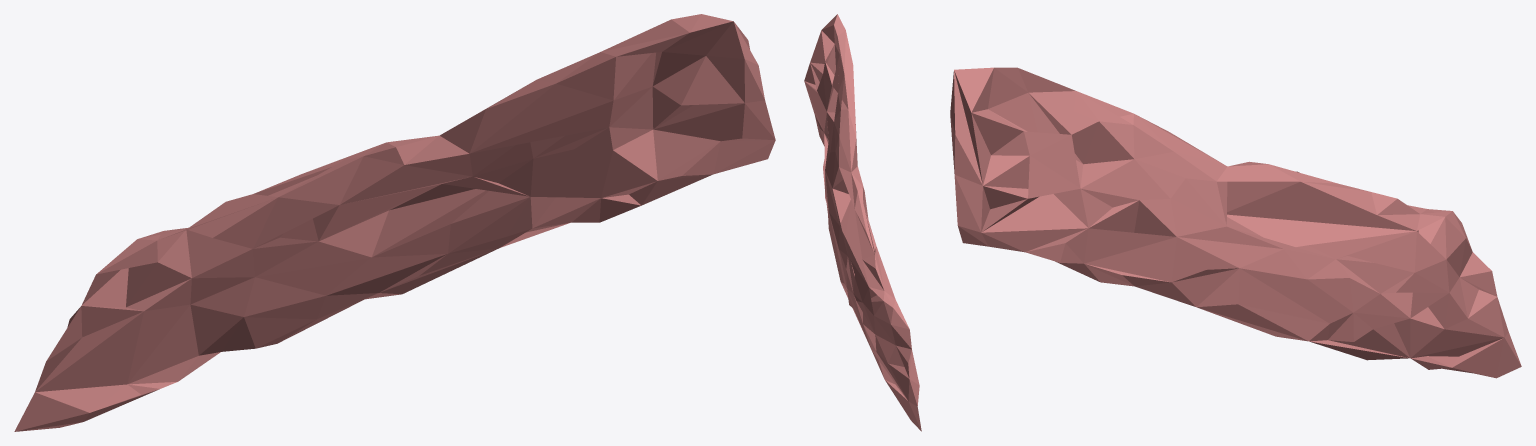
File: Teres_major_muscle.l.glb
The picture shows the model from 3 angles, left to right: view 1: azimuth 30°, elevation 25°; view 2: azimuth 150°, elevation 25°; view 3: azimuth 270°, elevation 25°; orthographic projection. The views are drawn at different scales.
Visible parts, largest first — view 1: Teres_major_muscle.l; view 2: Teres_major_muscle.l; view 3: Teres_major_muscle.l.
Boxes of the visible parts, x1,y1,x2,y2 form: Teres_major_muscle.l: (14, 14, 775, 431); Teres_major_muscle.l: (804, 14, 921, 431); Teres_major_muscle.l: (950, 67, 1521, 378).
Size of the model in its own units: 0.0821 by 0.0803 by 0.0804.
